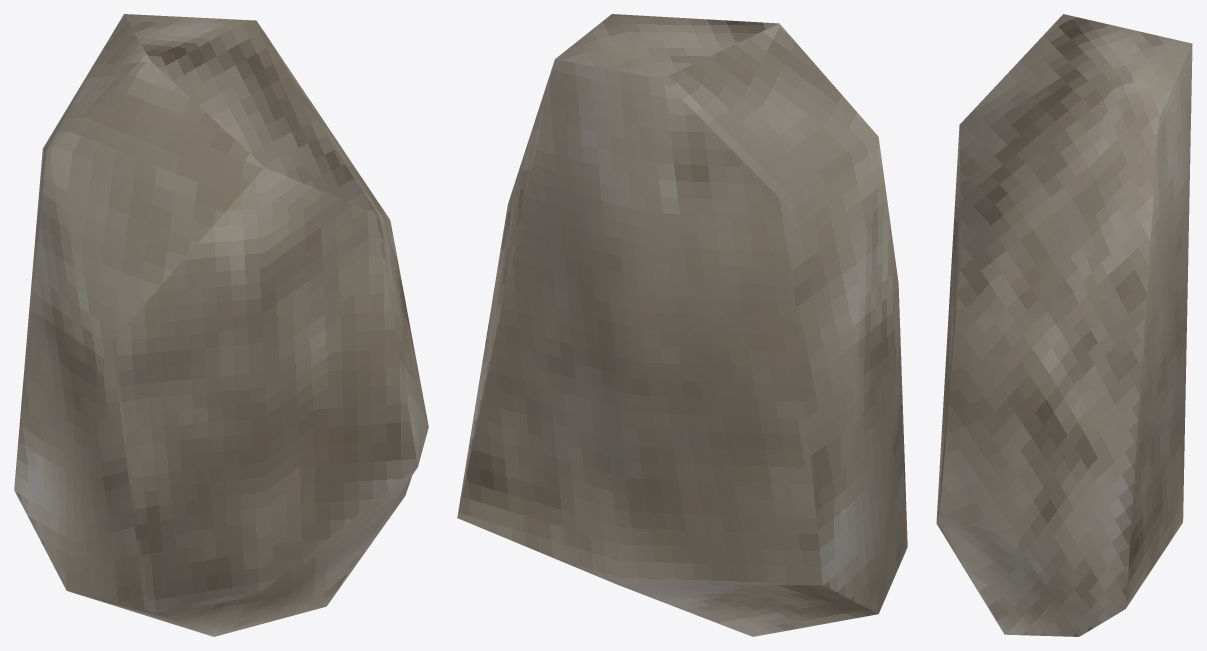
Rendered from rock_handpainted_2.glb.
3 views of the same model, side by side, from view 1: azimuth 30°, elevation 25°; view 2: azimuth 150°, elevation 25°; view 3: azimuth 270°, elevation 25° (orthographic). The views are drawn at different scales.
Parts seen in each view (by area): view 1: rock_2; view 2: rock_2; view 3: rock_2.
Part boxes in pixels (box(x1,y1,x2,y2)): rock_2: box(14, 14, 428, 636); rock_2: box(457, 14, 907, 636); rock_2: box(936, 14, 1192, 636).
Bounding box in the file's own units: 1.29 × 1.96 × 0.8096.
Materials: 1 (1 with a texture image).
